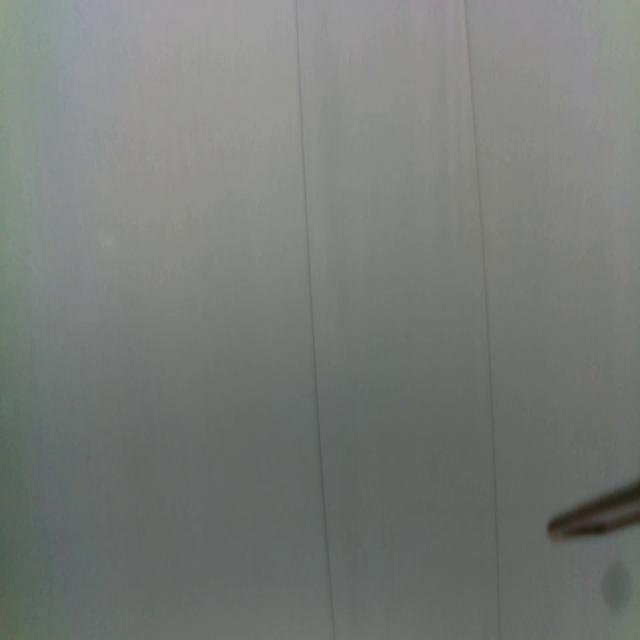crease: (295, 0, 338, 640), (464, 0, 500, 640)
